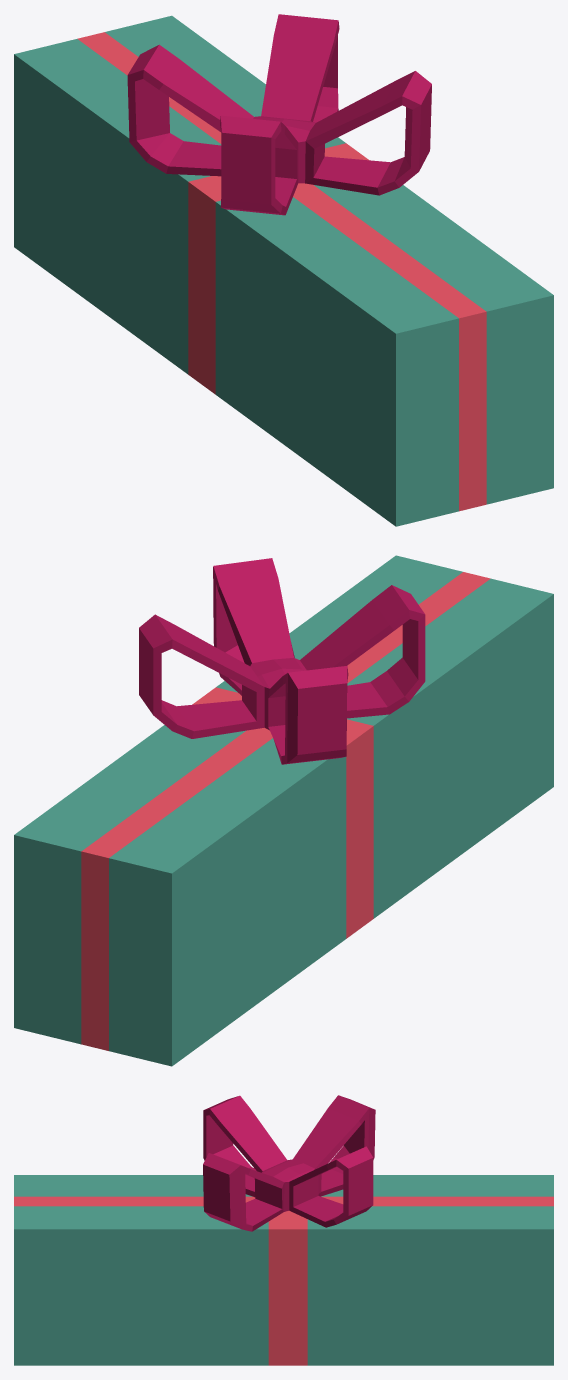
The model's file is Gift_Smol.001.fbx.
3 views of the same model, one above another, from view 1: azimuth 30°, elevation 25°; view 2: azimuth 150°, elevation 25°; view 3: azimuth 270°, elevation 25° (orthographic). The views are drawn at different scales.
Parts seen in each view (by area): view 1: Gift_Smol.001; view 2: Gift_Smol.001; view 3: Gift_Smol.001.
Part boxes in pixels (x1,y1,x2,y2): Gift_Smol.001: (14, 14, 553, 526); Gift_Smol.001: (14, 555, 553, 1066); Gift_Smol.001: (14, 1095, 553, 1365).
Size of the model in its own units: 26.72 by 34.68 by 80.61.
